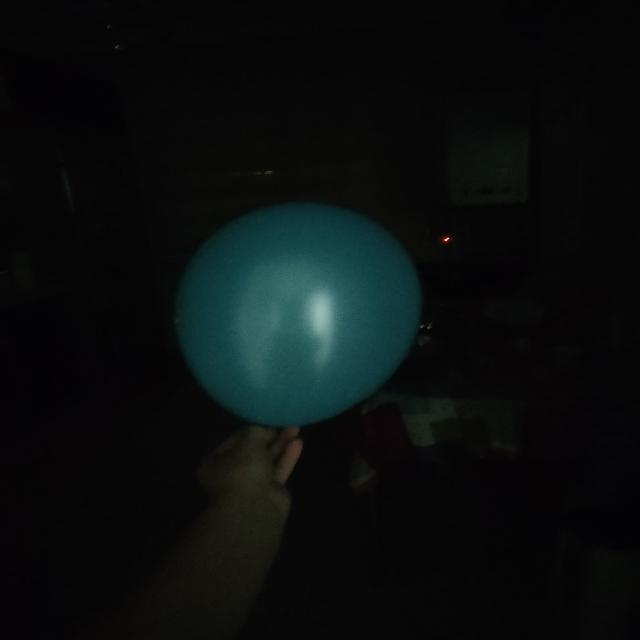blue: (178, 205, 422, 431)
